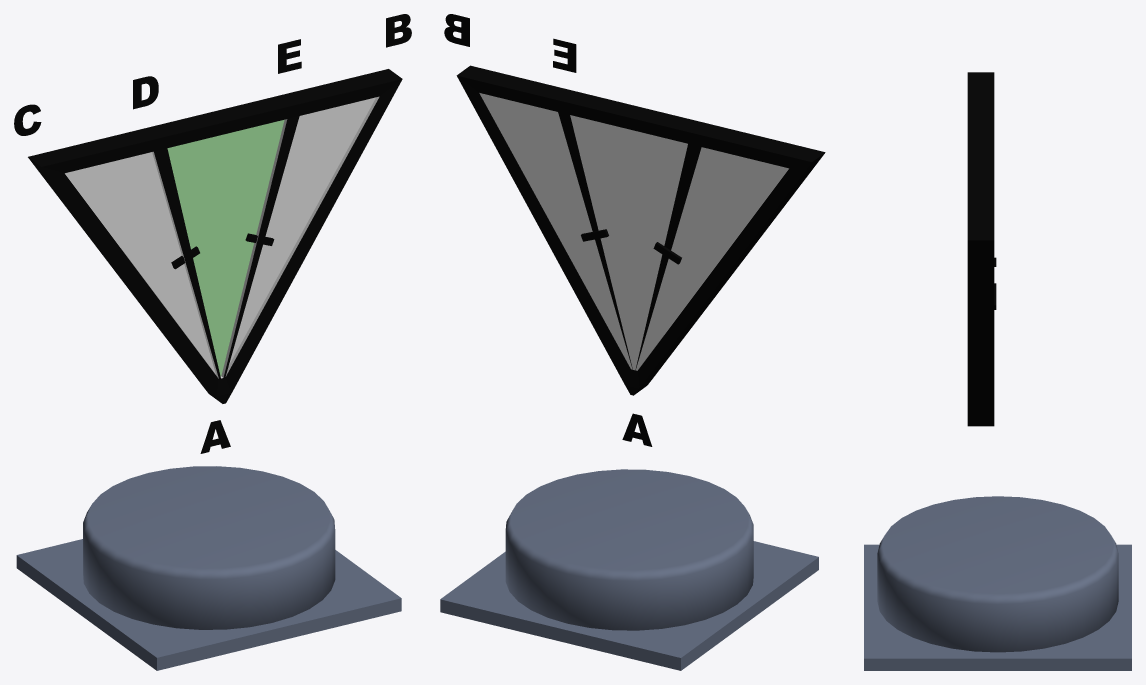
3 renders of one model, left to right at view 1: azimuth 30°, elevation 25°; view 2: azimuth 150°, elevation 25°; view 3: azimuth 270°, elevation 25°, orthographic. The views are drawn at different scales.
Parts seen in each view (by area): view 1: Cube.001, Cube, Text.004, Text.001; view 2: Cube.001, Cube, Text.004; view 3: Cube, Cube.001.
Boxes of the visible parts, x1,y1,x2,y2 form: Cube.001: [28, 69, 402, 403]; Cube: [16, 466, 401, 670]; Text.004: [386, 14, 411, 47]; Text.001: [133, 76, 158, 109]; Cube.001: [456, 65, 825, 395]; Cube: [440, 469, 818, 670]; Text.004: [444, 14, 469, 46]; Cube: [864, 496, 1131, 670]; Cube.001: [967, 72, 994, 426].
Bounding box in the file's own units: 14.86 × 19.13 × 9.09.
